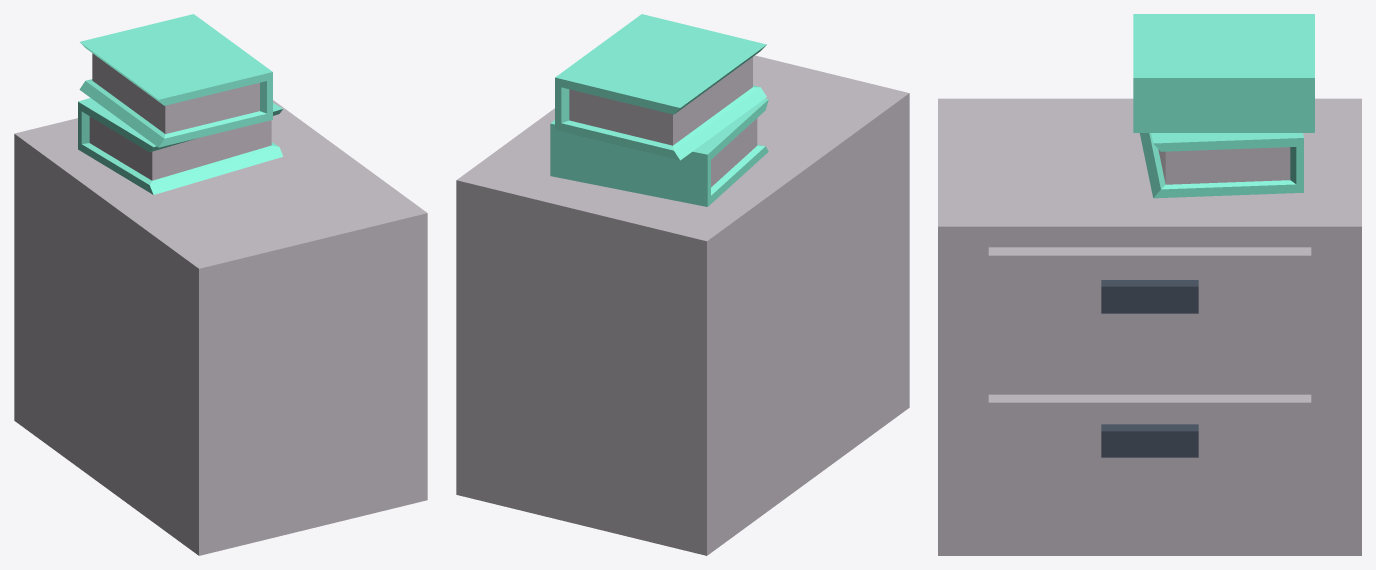
File: Nightstand 1.fbx
3 renders of one model, left to right at view 1: azimuth 30°, elevation 25°; view 2: azimuth 150°, elevation 25°; view 3: azimuth 270°, elevation 25°, orthographic. The views are drawn at different scales.
Parts seen in each view (by area): view 1: Book41, Book41.002; view 2: Book41, Book41.002; view 3: Book41, Book41.002, Book41.001.
Part boxes in pixels (<box>): Book41: <box>14,100,427,555</box>; Book41.002: <box>78,14,282,194</box>; Book41: <box>456,55,909,555</box>; Book41.002: <box>550,14,768,206</box>; Book41: <box>938,98,1361,555</box>; Book41.002: <box>1133,14,1314,198</box>; Book41.001: <box>1101,280,1198,457</box>.
Size of the model in its own units: 558 by 800 by 700.
